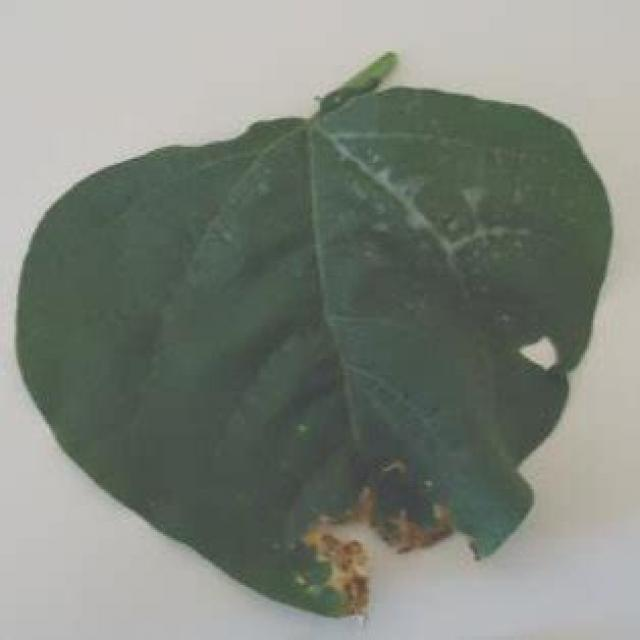blight: (308, 436, 459, 536)
